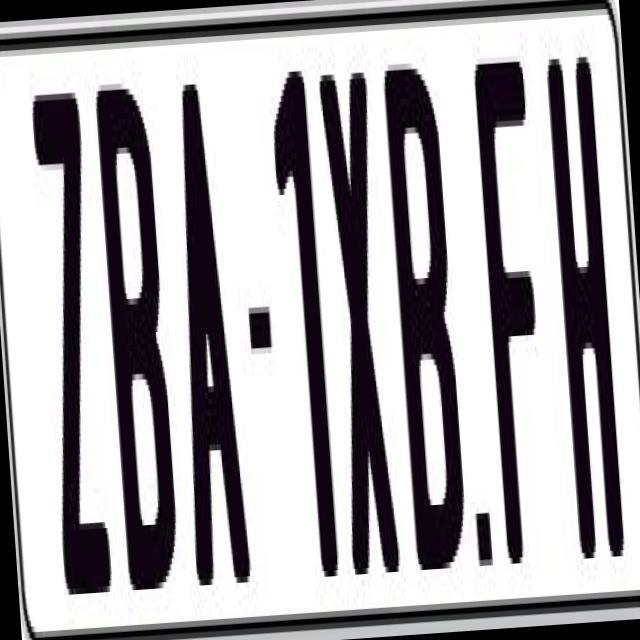1: (268, 70, 347, 590)
A: (158, 77, 246, 603)
B: (381, 50, 473, 552), (92, 88, 180, 596)
F: (472, 61, 560, 575)
H: (542, 56, 624, 576)
X: (315, 60, 406, 598)
Z: (29, 91, 119, 606)
